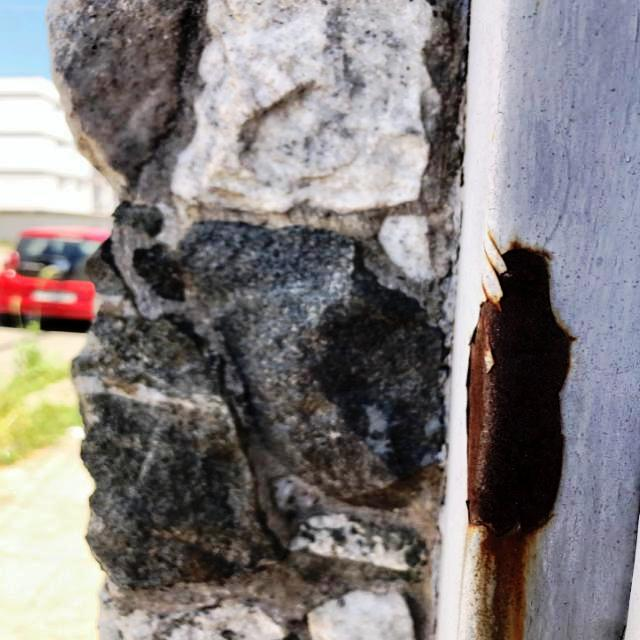Corrosion: (459, 229, 581, 553)
